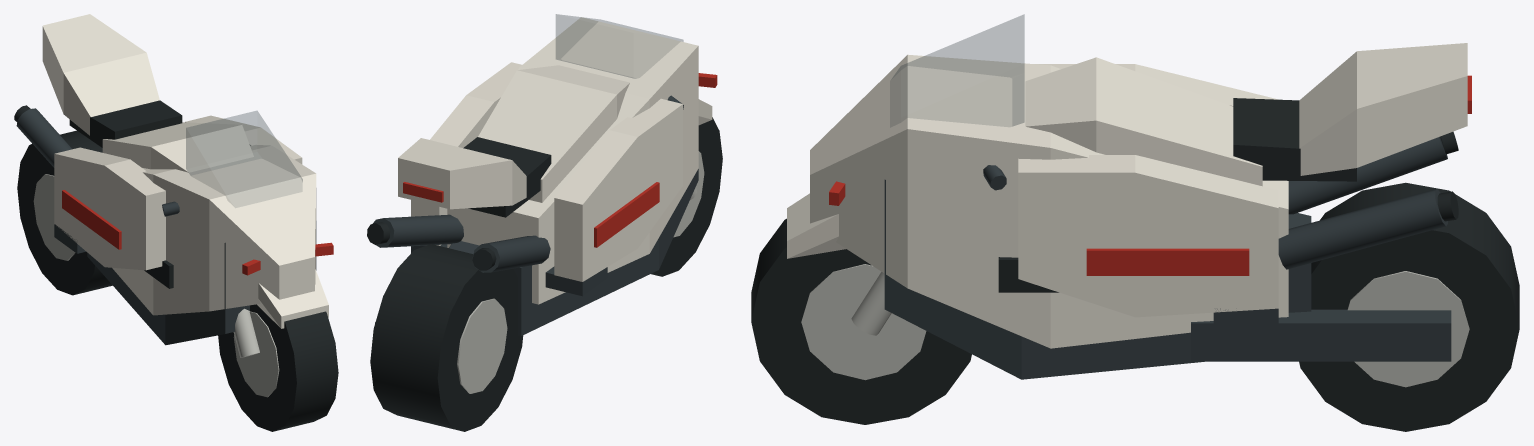
The picture shows the model from 3 angles, left to right: view 1: azimuth 30°, elevation 25°; view 2: azimuth 150°, elevation 25°; view 3: azimuth 270°, elevation 25°; orthographic projection. The views are drawn at different scales.
Parts seen in each view (by area): view 1: motorcycle-fleet-armor, breakaway-0-painted, front-wheel-fleet-rubber, motorcycle-fleet-glass, motorcycle-fleet-machine, rear-wheel-fleet-rubber, motorcycle-fleet-rubber, front-wheel-fleet-edge, breakaway-2-painted, motorcycle-fleet-red, rear-wheel-fleet-edge, breakaway-1-painted (+1 smaller); view 2: motorcycle-fleet-armor, rear-wheel-fleet-rubber, breakaway-0-painted, motorcycle-fleet-machine, motorcycle-fleet-glass, rear-wheel-fleet-edge, front-wheel-fleet-rubber, breakaway-1-painted, motorcycle-fleet-rubber, motorcycle-fleet-red, front-wheel-fleet-edge; view 3: motorcycle-fleet-armor, motorcycle-fleet-machine, breakaway-1-painted, rear-wheel-fleet-rubber, front-wheel-fleet-rubber, motorcycle-fleet-glass, front-wheel-fleet-edge, motorcycle-fleet-rubber, rear-wheel-fleet-edge, motorcycle-fleet-red, breakaway-2-painted, breakaway-0-painted (+1 smaller).
Boxes of the visible parts, x1=… form: motorcycle-fleet-armor: x1=42, y1=14, x2=316, y2=315; breakaway-0-painted: x1=54, y1=147, x2=165, y2=270; front-wheel-fleet-rubber: x1=218, y1=304, x2=338, y2=431; motorcycle-fleet-glass: x1=186, y1=111, x2=302, y2=207; motorcycle-fleet-machine: x1=16, y1=108, x2=316, y2=345; rear-wheel-fleet-rubber: x1=17, y1=130, x2=112, y2=295; motorcycle-fleet-rubber: x1=14, y1=100, x2=182, y2=288; front-wheel-fleet-edge: x1=233, y1=311, x2=279, y2=397; breakaway-2-painted: x1=257, y1=269, x2=328, y2=328; motorcycle-fleet-red: x1=62, y1=190, x2=333, y2=275; rear-wheel-fleet-edge: x1=33, y1=174, x2=75, y2=260; breakaway-1-painted: x1=185, y1=115, x2=302, y2=164; motorcycle-fleet-armor: x1=398, y1=17, x2=698, y2=304; rear-wheel-fleet-rubber: x1=370, y1=244, x2=523, y2=431; breakaway-0-painted: x1=554, y1=98, x2=682, y2=281; motorcycle-fleet-machine: x1=372, y1=169, x2=698, y2=335; motorcycle-fleet-glass: x1=556, y1=14, x2=683, y2=78; rear-wheel-fleet-edge: x1=457, y1=298, x2=507, y2=393; front-wheel-fleet-rubber: x1=651, y1=117, x2=722, y2=276; breakaway-1-painted: x1=411, y1=62, x2=521, y2=245; motorcycle-fleet-rubber: x1=367, y1=137, x2=551, y2=270; motorcycle-fleet-red: x1=403, y1=73, x2=717, y2=247; front-wheel-fleet-edge: x1=673, y1=151, x2=704, y2=237; motorcycle-fleet-armor: x1=810, y1=43, x2=1467, y2=348; motorcycle-fleet-machine: x1=884, y1=136, x2=1451, y2=379; breakaway-1-painted: x1=1018, y1=155, x2=1278, y2=317; rear-wheel-fleet-rubber: x1=1299, y1=182, x2=1519, y2=431; front-wheel-fleet-rubber: x1=751, y1=218, x2=971, y2=424; motorcycle-fleet-glass: x1=890, y1=14, x2=1024, y2=126; front-wheel-fleet-edge: x1=801, y1=264, x2=926, y2=380; motorcycle-fleet-rubber: x1=998, y1=98, x2=1458, y2=292; rear-wheel-fleet-edge: x1=1347, y1=271, x2=1469, y2=387; motorcycle-fleet-red: x1=829, y1=75, x2=1471, y2=275; breakaway-2-painted: x1=787, y1=193, x2=845, y2=258; breakaway-0-painted: x1=1035, y1=64, x2=1278, y2=106.
Size of the model in its own units: 4.29 by 6.6 by 12.37.
